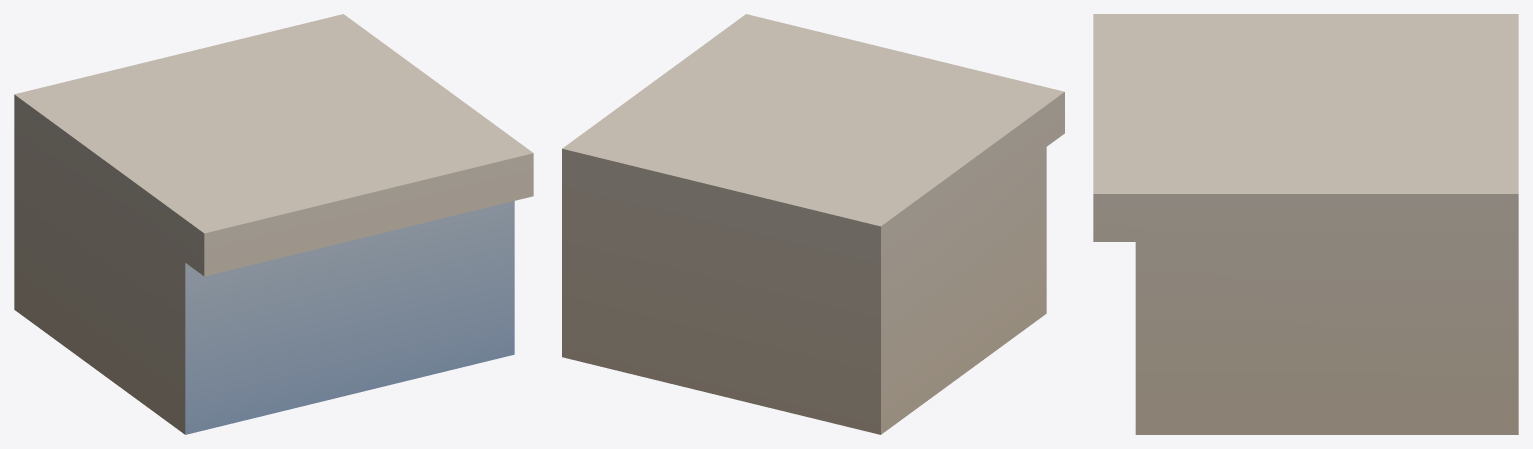
File: building-window-large-middle.glb
3 renders of one model, left to right at view 1: azimuth 30°, elevation 25°; view 2: azimuth 150°, elevation 25°; view 3: azimuth 270°, elevation 25°, orthographic. The views are drawn at different scales.
Parts seen in each view (by area): view 1: building-window-large-middle; view 2: building-window-large-middle; view 3: building-window-large-middle.
Boxes of the visible parts, x1,y1,x2,y2 form: building-window-large-middle: [14, 14, 533, 434]; building-window-large-middle: [562, 14, 1064, 434]; building-window-large-middle: [1093, 14, 1518, 434].
Bounding box in the file's own units: 1 × 0.625 × 1.
